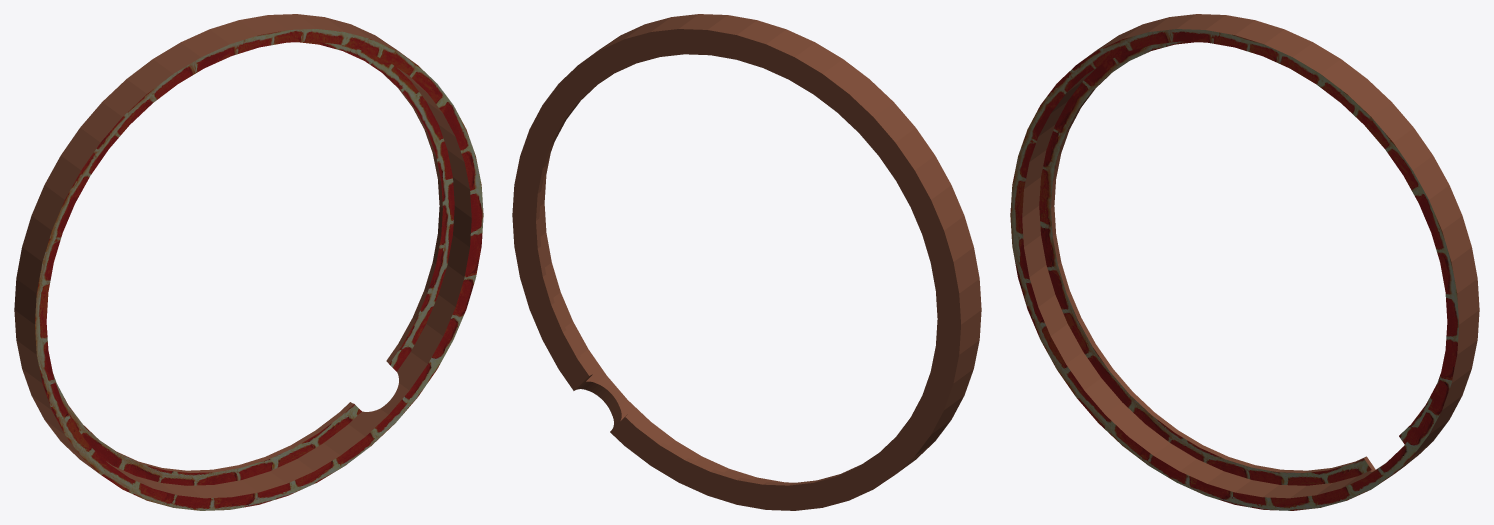
Rendered from pool_035.obj.
3 renders of one model, left to right at view 1: azimuth 30°, elevation 25°; view 2: azimuth 150°, elevation 25°; view 3: azimuth 330°, elevation 25°, orthographic.
Bounding box in the file's own units: 38 × 38 × 3.
